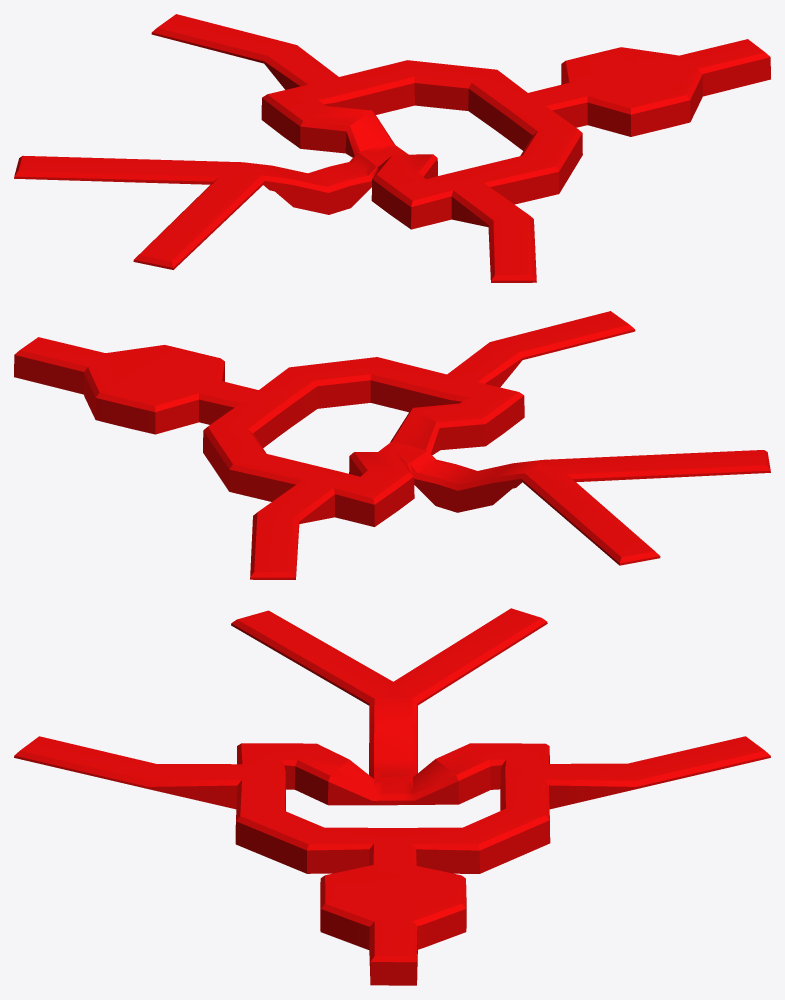
Rendered from EnemyPath1.fbx.
3 renders of one model, top to bottom at view 1: azimuth 30°, elevation 25°; view 2: azimuth 150°, elevation 25°; view 3: azimuth 270°, elevation 25°, orthographic. The views are drawn at different scales.
Parts seen in each view (by area): view 1: EnemyPath1; view 2: EnemyPath1; view 3: EnemyPath1.
Part boxes in pixels (box(x1,y1,x2,y2)): EnemyPath1: box(14, 14, 770, 282); EnemyPath1: box(14, 311, 770, 579); EnemyPath1: box(14, 608, 770, 985).
Bounding box in the file's own units: 11219 × 833 × 10183.
